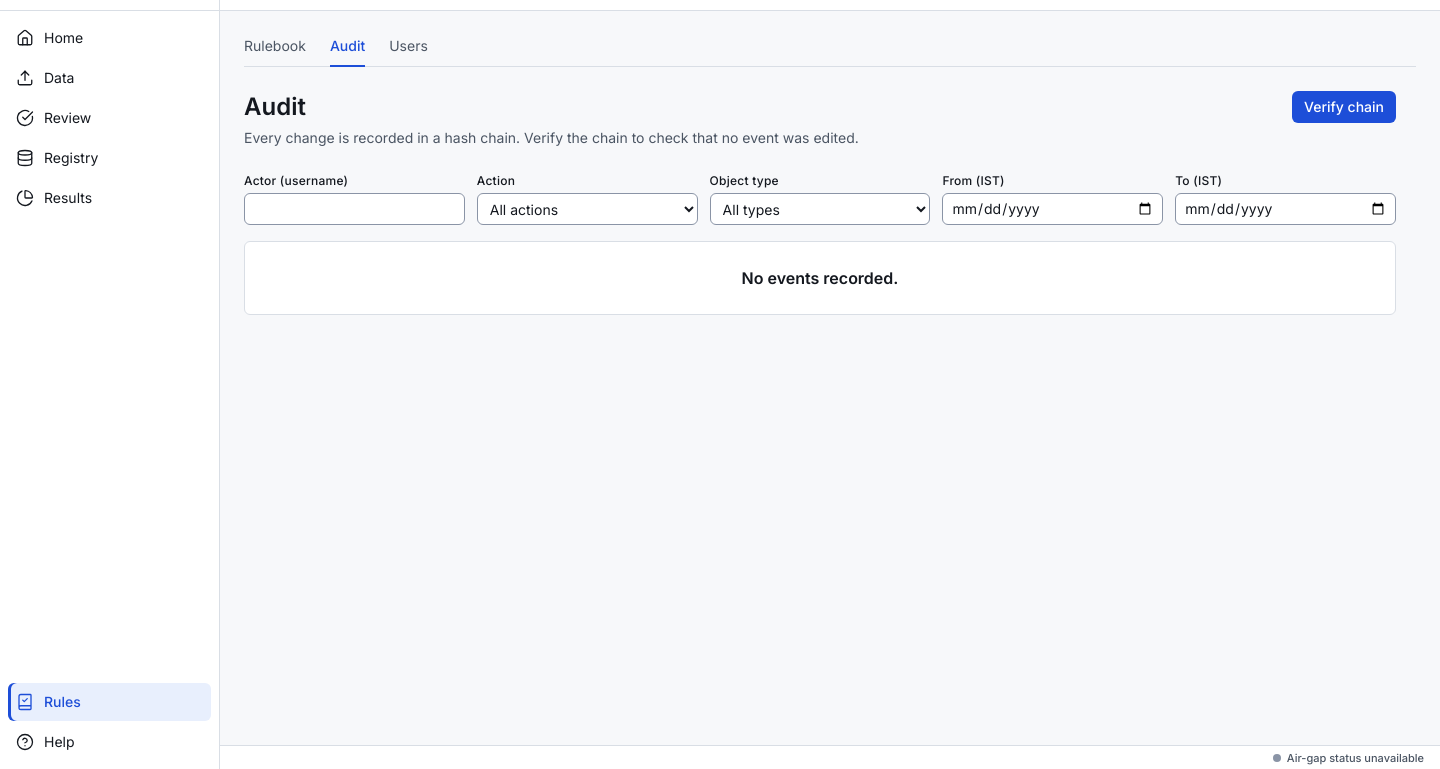
Test: sidebar by role, every screen built › ADMIN sees ["Home","Data","Review","Registry","Results","Rules","Help"]
The width and height of the screenshot is (1440, 769).
Check: the heading "Audit" is shown, box [244, 92, 306, 121]
Check: the links read "Rulebook", "Audit", "Users", in this order, box [244, 37, 306, 54]; [330, 35, 365, 67]; [389, 37, 428, 54]
What coordinates should you click on to do the following:
click the link "Rules"
I would click on:
 (110, 702)
Its box is [8, 683, 211, 721].
(page scrolled)
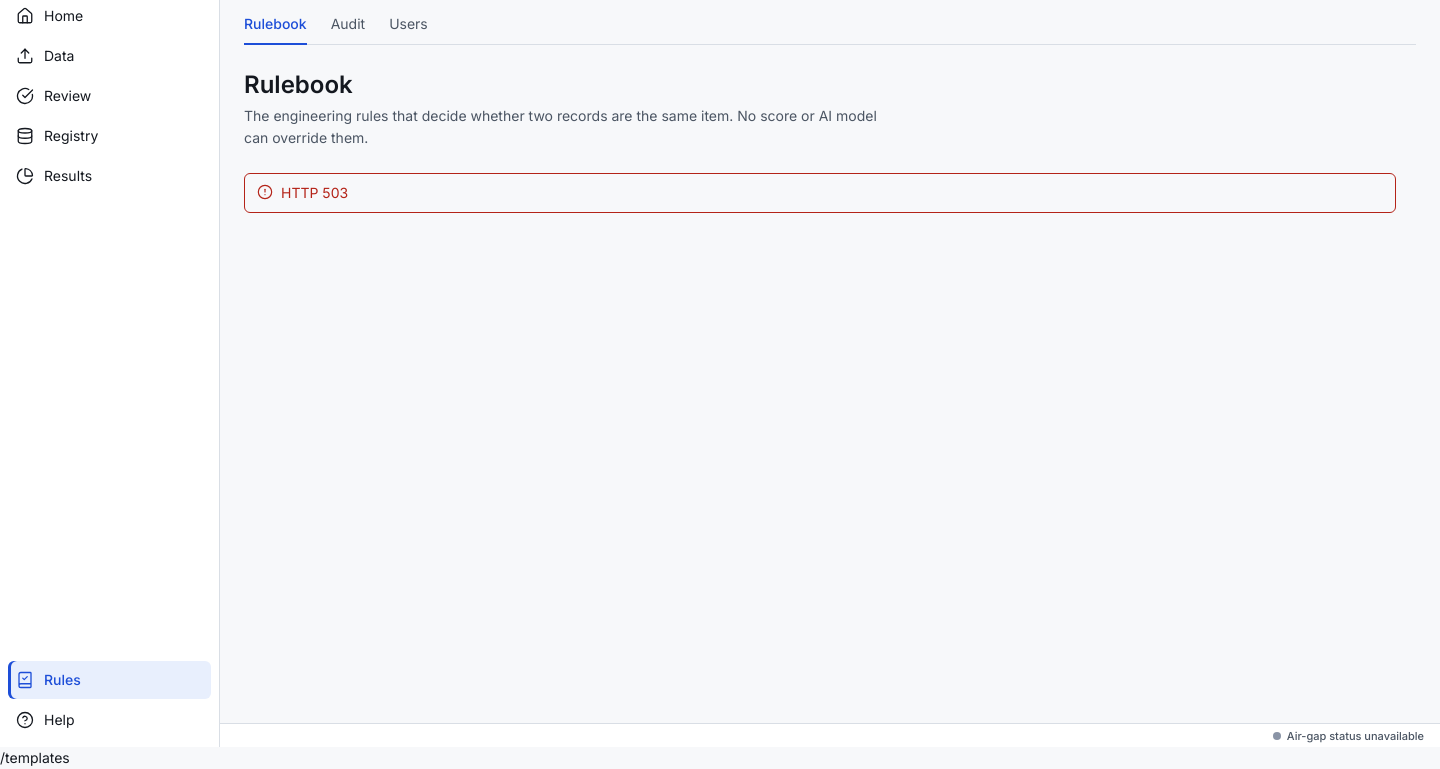
Check: the text with test id "location" reads "/templates", box [0, 749, 70, 766]
